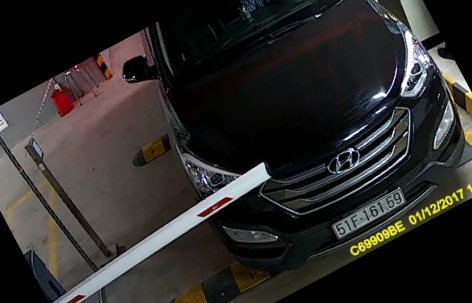plate: (319, 186, 404, 243)
